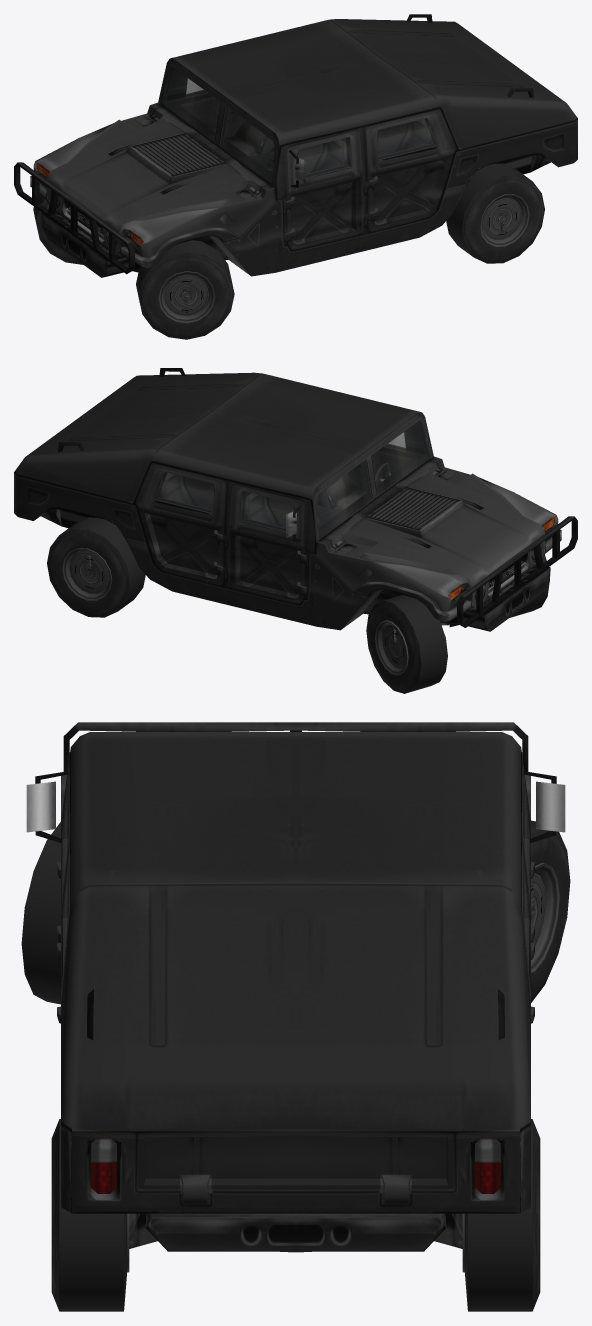
The model's file is slater93.glb.
3 renders of one model, top to bottom at view 1: azimuth 30°, elevation 25°; view 2: azimuth 150°, elevation 25°; view 3: azimuth 270°, elevation 25°, orthographic. The views are drawn at different scales.
Visible parts, largest first — view 1: body_body_Slatermk193_0, Hood_body_Slatermk193_0, Glass_GT1_Glass_Clean_dif_0, iNTERIOR_gt1_interior_dif_0, Wheel_RL_wp_tire_01_dif_0, Wheel_FL_wp_tire_01_dif_0, Pushbar_Front_gt1_Bottom_0, Wheel_FL_Rim_ArmoredMesh_0, Wheel_RL_Rim_ArmoredMesh_0, Bottom_gt1_Bottom_0, Wheel_FR_wp_tire_01_dif_0; view 2: body_body_Slatermk193_0, Hood_body_Slatermk193_0, Glass_GT1_Glass_Clean_dif_0, iNTERIOR_gt1_interior_dif_0, Wheel_RR_wp_tire_01_dif_0, Wheel_FR_wp_tire_01_dif_0, Pushbar_Front_gt1_Bottom_0, Bottom_gt1_Bottom_0, Wheel_RR_Rim_ArmoredMesh_0, Wheel_FR_Rim_ArmoredMesh_0; view 3: body_body_Slatermk193_0, Trunkdoor_body_Slatermk193_0, Wheel_RL_wp_tire_01_dif_0, Wheel_RR_wp_tire_01_dif_0, Wheel_FL_wp_tire_01_dif_0, Pushbar_Front_gt1_Bottom_0, Sidemirrors_gt1_Bottom_0, Wheel_FR_wp_tire_01_dif_0, Wheel_FR_Rim_ArmoredMesh_0, Bottom_gt1_Bottom_0, Stoplight_glass_gt1_headlights_3_0, iNTERIOR_gt1_interior_dif_0 (+3 smaller).
Boxes of the visible parts, x1=… form: body_body_Slatermk193_0: x1=41, y1=19, x2=577, y2=277; Hood_body_Slatermk193_0: x1=30, y1=102, x2=275, y2=268; Glass_GT1_Glass_Clean_dif_0: x1=162, y1=67, x2=436, y2=182; iNTERIOR_gt1_interior_dif_0: x1=162, y1=67, x2=437, y2=182; Wheel_RL_wp_tire_01_dif_0: x1=446, y1=163, x2=544, y2=263; Wheel_FL_wp_tire_01_dif_0: x1=136, y1=240, x2=234, y2=339; Pushbar_Front_gt1_Bottom_0: x1=14, y1=162, x2=134, y2=274; Wheel_FL_Rim_ArmoredMesh_0: x1=158, y1=271, x2=215, y2=323; Wheel_RL_Rim_ArmoredMesh_0: x1=479, y1=194, x2=529, y2=246; Bottom_gt1_Bottom_0: x1=41, y1=14, x2=555, y2=277; Wheel_FR_wp_tire_01_dif_0: x1=33, y1=194, x2=83, y2=264; body_body_Slatermk193_0: x1=14, y1=372, x2=550, y2=631; Hood_body_Slatermk193_0: x1=316, y1=456, x2=561, y2=621; Glass_GT1_Glass_Clean_dif_0: x1=155, y1=421, x2=429, y2=536; iNTERIOR_gt1_interior_dif_0: x1=154, y1=421, x2=429, y2=536; Wheel_RR_wp_tire_01_dif_0: x1=47, y1=517, x2=145, y2=617; Wheel_FR_wp_tire_01_dif_0: x1=366, y1=595, x2=447, y2=693; Pushbar_Front_gt1_Bottom_0: x1=457, y1=516, x2=577, y2=627; Bottom_gt1_Bottom_0: x1=37, y1=368, x2=550, y2=631; Wheel_RR_Rim_ArmoredMesh_0: x1=62, y1=548, x2=112, y2=600; Wheel_FR_Rim_ArmoredMesh_0: x1=375, y1=620, x2=408, y2=675; body_body_Slatermk193_0: x1=57, y1=732, x2=534, y2=1251; Trunkdoor_body_Slatermk193_0: x1=136, y1=1131, x2=455, y2=1205; Wheel_RL_wp_tire_01_dif_0: x1=51, y1=1119, x2=127, y2=1311; Wheel_RR_wp_tire_01_dif_0: x1=464, y1=1119, x2=540, y2=1311; Wheel_FL_wp_tire_01_dif_0: x1=21, y1=822, x2=60, y2=1004; Pushbar_Front_gt1_Bottom_0: x1=63, y1=722, x2=528, y2=771; Sidemirrors_gt1_Bottom_0: x1=26, y1=771, x2=565, y2=843; Wheel_FR_wp_tire_01_dif_0: x1=531, y1=820, x2=570, y2=1002; Wheel_FR_Rim_ArmoredMesh_0: x1=531, y1=862, x2=559, y2=972; Bottom_gt1_Bottom_0: x1=87, y1=989, x2=504, y2=1252; Stoplight_glass_gt1_headlights_3_0: x1=90, y1=1163, x2=501, y2=1193; iNTERIOR_gt1_interior_dif_0: x1=62, y1=783, x2=529, y2=970.
Bounding box in the file's own units: 4.8 × 1.79 × 2.51.
7 materials, 7 textured.
